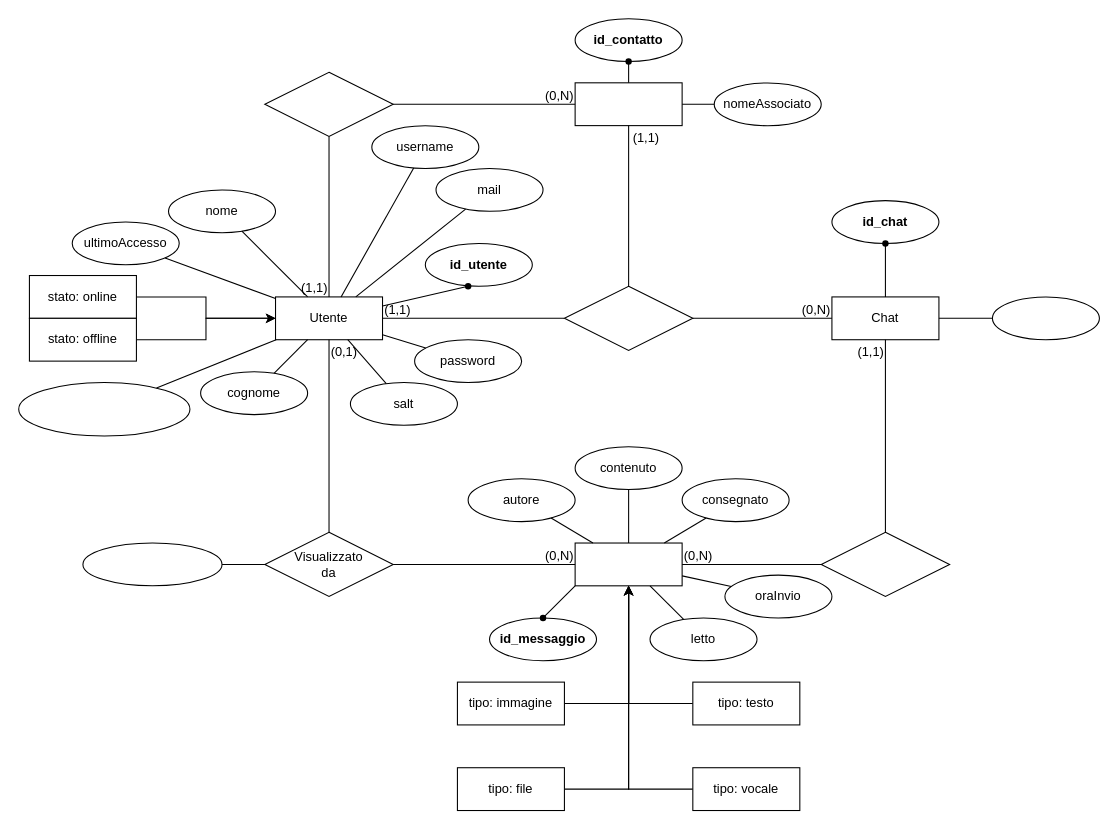
Some shapes in this 1118 by 829 pixel diagram are drawn without their labels. The centre of each missing label's shape, as x and y in pixels:
"Contatto" belongs at (628,104).
"Contiene" belongs at (885,564).
"Conversa in" belongs at (628,317).
"Messaggio" belongs at (628,564).
"oraVisualizzazione" belongs at (152,564).
"Possiede" belongs at (328,103).
"remember_me_token" belongs at (104,408).
"statoChat" belongs at (1045,318).
